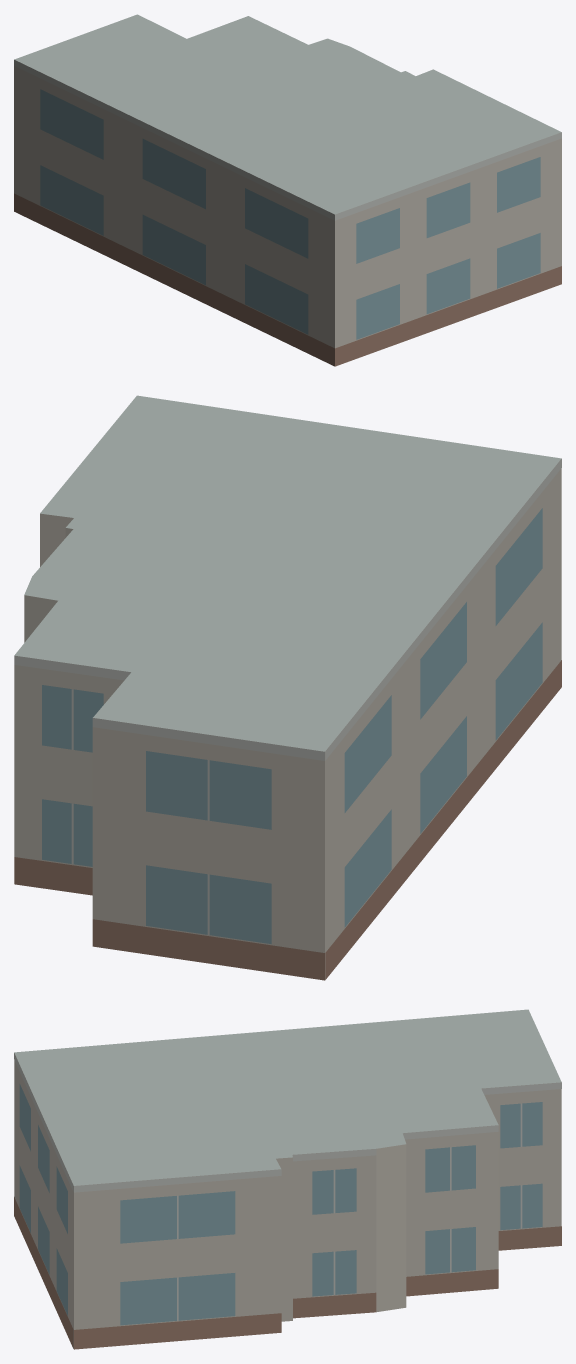
Rendered from survey-upis-32719174.glb.
3 renders of one model, top to bottom at view 1: azimuth 30°, elevation 25°; view 2: azimuth 150°, elevation 25°; view 3: azimuth 270°, elevation 25°, orthographic. The views are drawn at different scales.
Visible parts, largest first — view 1: survey-upis-32719174.tmp; view 2: survey-upis-32719174.tmp; view 3: survey-upis-32719174.tmp.
Part boxes in pixels (x1,y1,x2,y2): survey-upis-32719174.tmp: (14,14,561,366); survey-upis-32719174.tmp: (14,395,561,980); survey-upis-32719174.tmp: (14,1009,561,1349).
Size of the model in its own units: 12.98 by 5.6 by 17.01.
